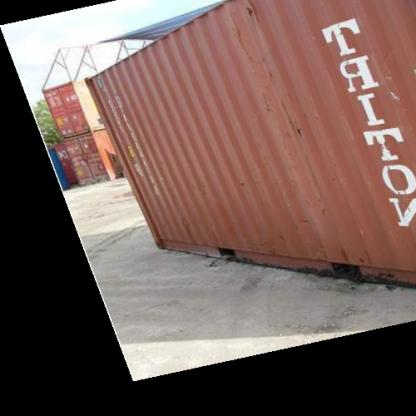Damage: (250, 79, 324, 146), (225, 7, 267, 57), (337, 236, 377, 274), (172, 204, 202, 245)
